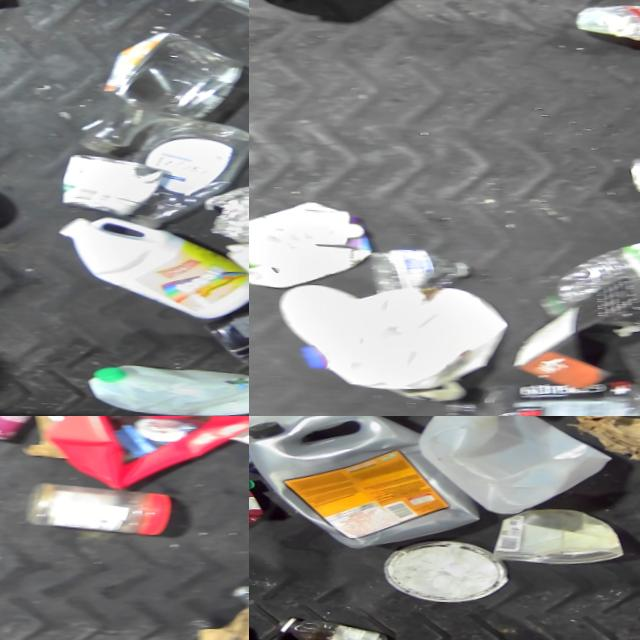can: (628, 157, 640, 201)
milk_jug: (280, 283, 509, 397), (49, 210, 249, 326), (408, 416, 611, 525), (77, 356, 249, 416)
non_white_jug: (249, 416, 480, 556), (49, 416, 249, 497)
plastic_bottle: (527, 226, 640, 329), (345, 249, 478, 301), (438, 385, 625, 416)
